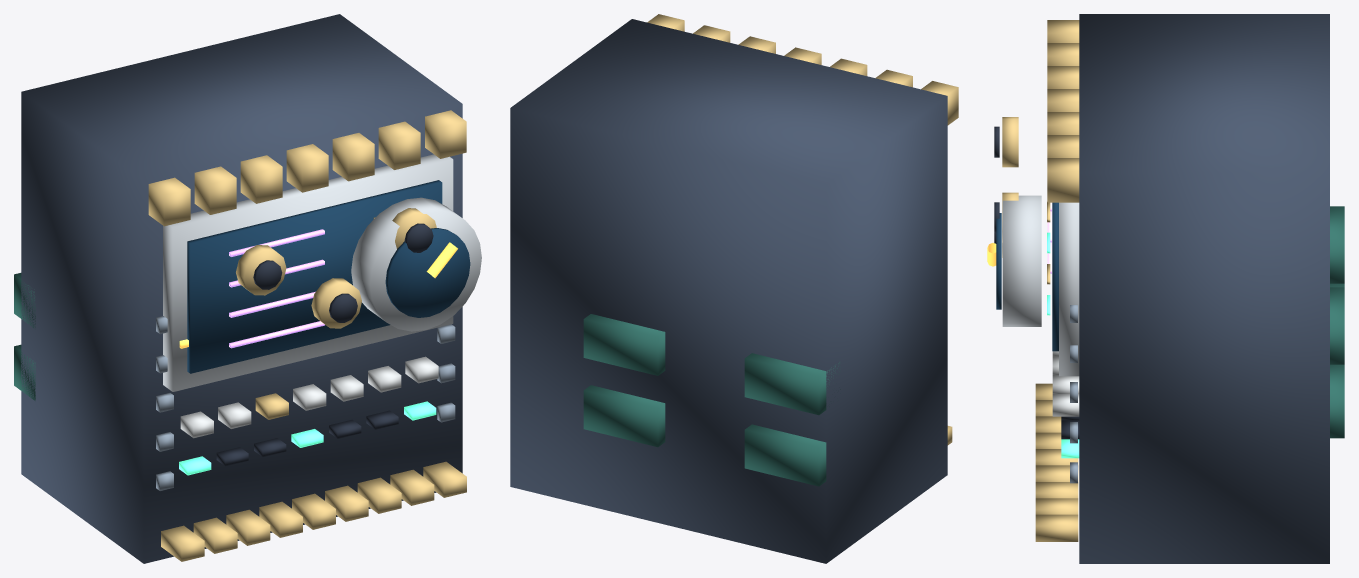
The model's file is 36_L91_UltraStableOscillator.fbx.
3 renders of one model, left to right at view 1: azimuth 30°, elevation 25°; view 2: azimuth 150°, elevation 25°; view 3: azimuth 270°, elevation 25°, orthographic. The views are drawn at different scales.
Visible parts, largest first — view 1: L91_UltraStableOscillator, L91_UltraStableOscillator_Part_0013, L91_UltraStableOscillator_Part_0015, L91_UltraStableOscillator_Part_0017, L91_UltraStableOscillator_Part_0016, L91_UltraStableOscillator_Part_0014, L91_UltraStableOscillator_Part_0018; view 2: L91_UltraStableOscillator; view 3: L91_UltraStableOscillator, L91_UltraStableOscillator_Part_0013.
Boxes of the visible parts, x1,y1,x2,y2 form: L91_UltraStableOscillator: (14, 14, 481, 563); L91_UltraStableOscillator_Part_0013: (236, 245, 286, 295); L91_UltraStableOscillator_Part_0015: (311, 278, 361, 328); L91_UltraStableOscillator_Part_0017: (392, 208, 436, 248); L91_UltraStableOscillator_Part_0016: (329, 293, 357, 322); L91_UltraStableOscillator_Part_0014: (253, 260, 282, 289); L91_UltraStableOscillator_Part_0018: (404, 223, 433, 252); L91_UltraStableOscillator: (510, 14, 958, 563); L91_UltraStableOscillator: (996, 14, 1344, 563); L91_UltraStableOscillator_Part_0013: (1002, 117, 1018, 167).
Size of the model in its own units: 0.969 by 1.11 by 0.921.
